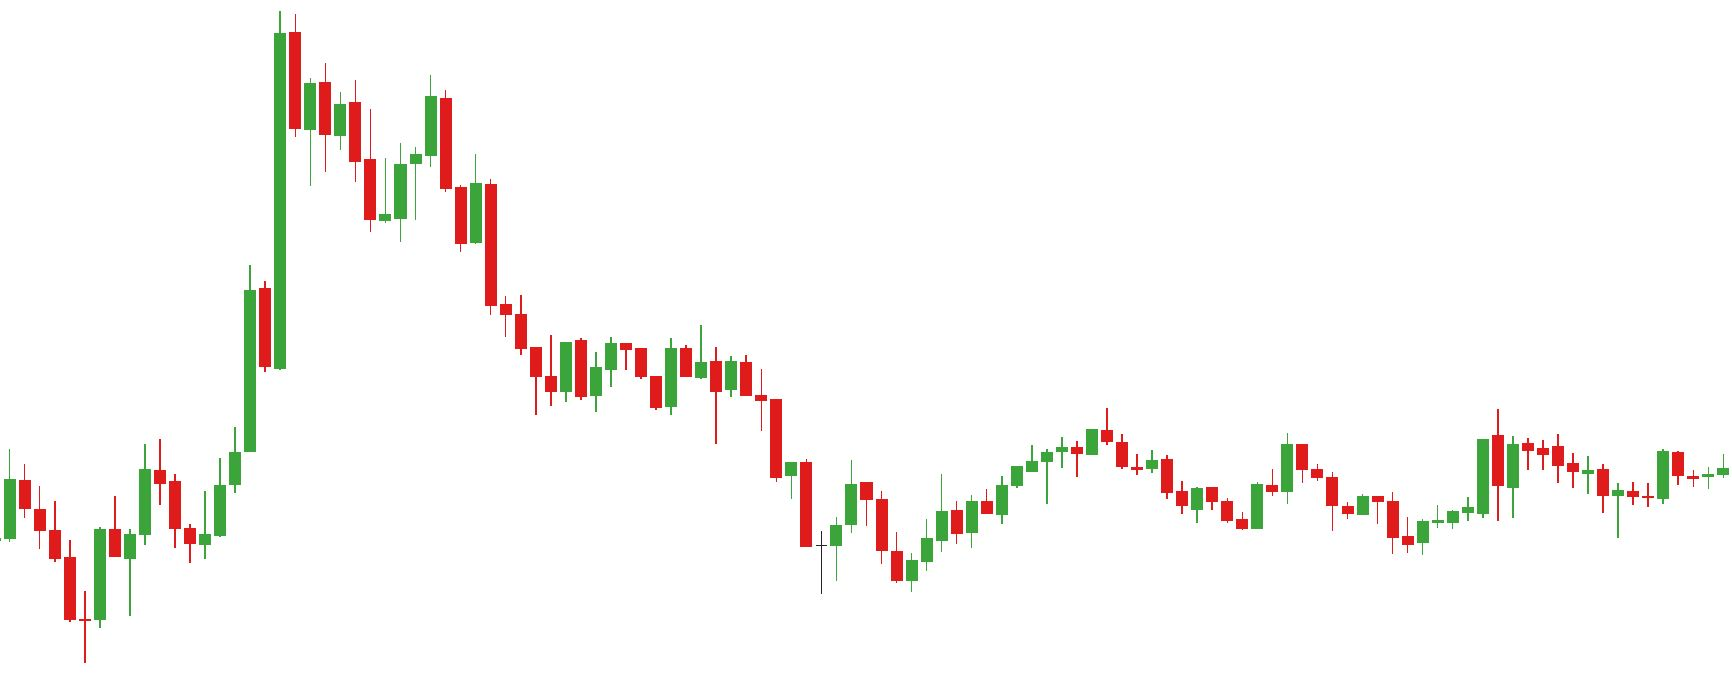sell: (347, 73, 456, 198)
